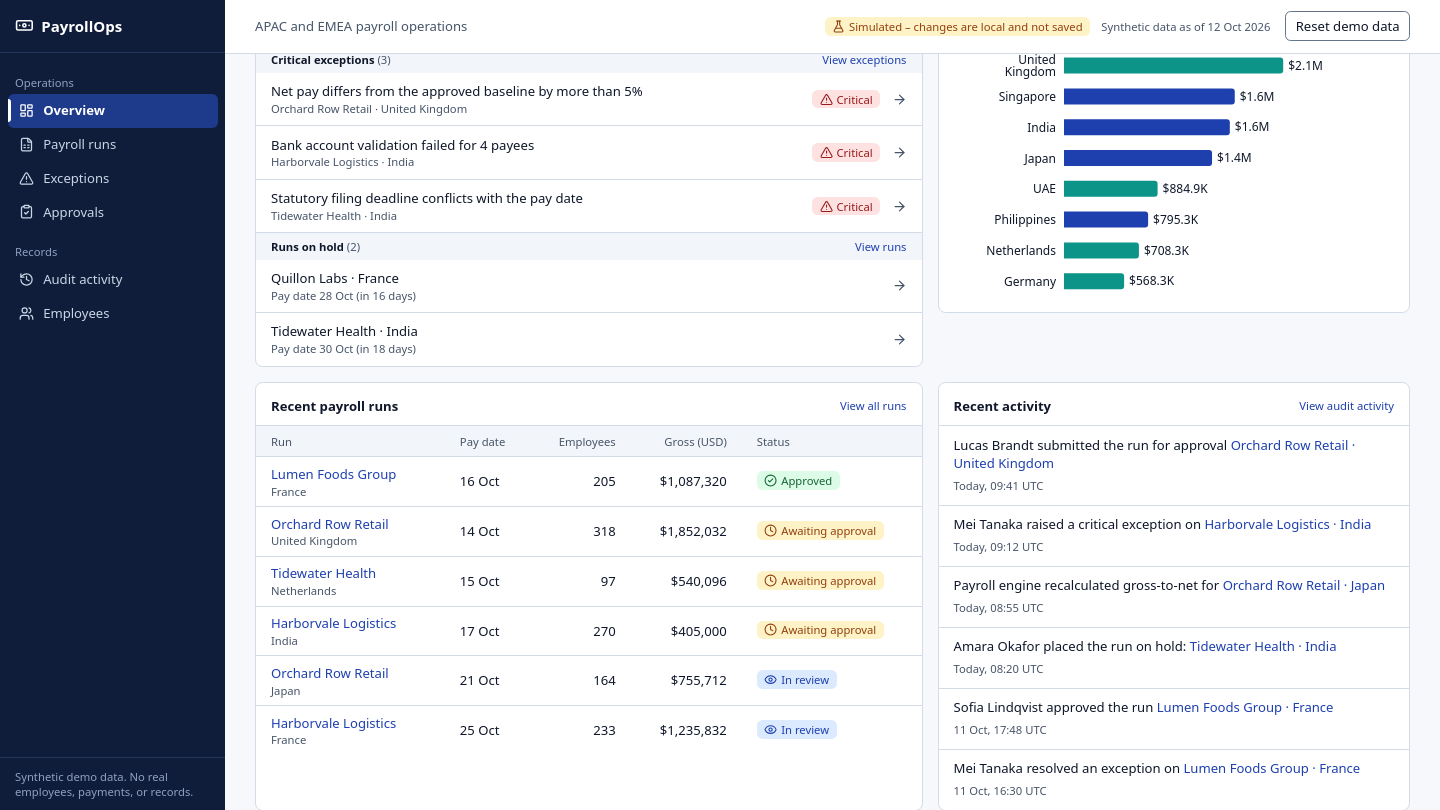
Test: Audit activity page › is reachable from the Overview, and has no detectable accessibility violations
(page scrolled)
Click the link "View audit activity" at (1347, 405), box [1299,398,1394,413]
(page scrolled)
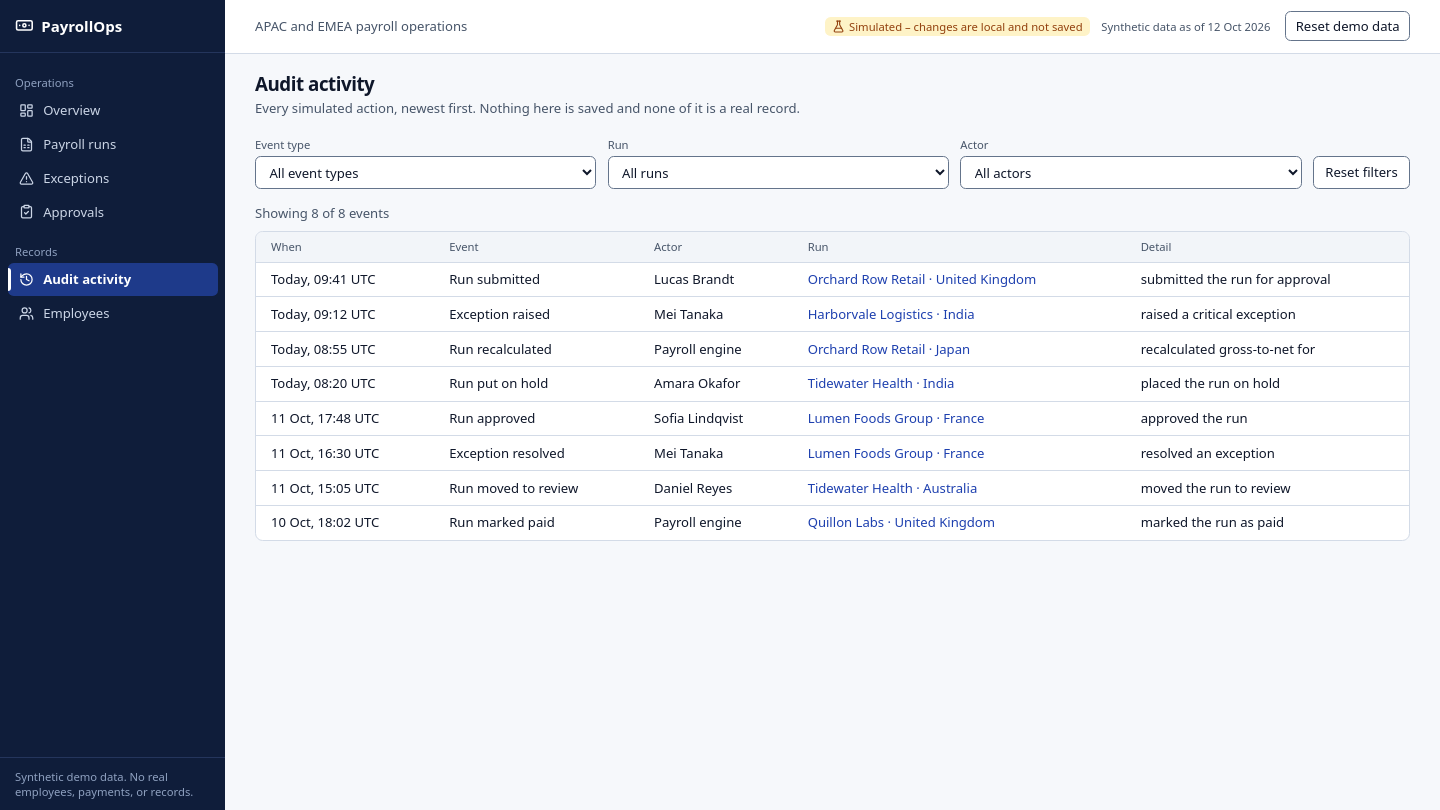
Check: the dropdown labelled "Event type" is shown, box [255,156,596,190]
Check: the dropdown labelled "Run" is shown, box [608,156,949,190]
Check: the dropdown labelled "Actor" is shown, box [960,156,1302,190]
